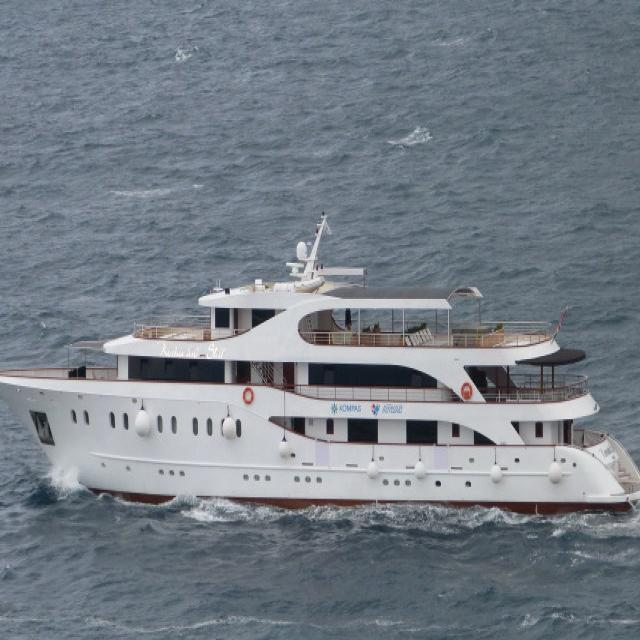cruises: (1, 213, 640, 528)
